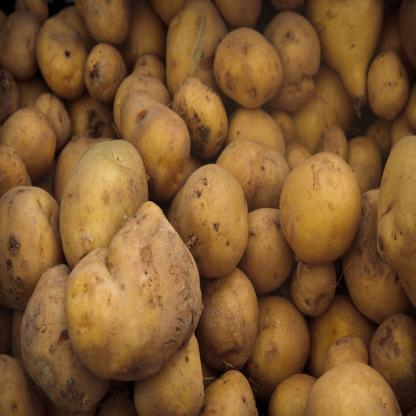potato: (69, 202, 200, 374), (53, 115, 154, 278), (164, 160, 256, 283), (282, 154, 366, 272), (0, 186, 61, 316), (110, 103, 204, 181), (216, 34, 290, 112), (164, 76, 234, 152), (38, 20, 91, 107), (90, 45, 126, 104)
